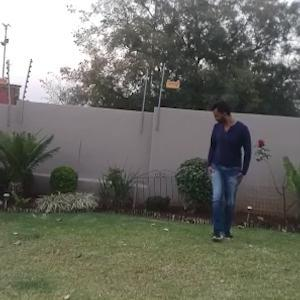follow: (204, 83, 257, 257)
